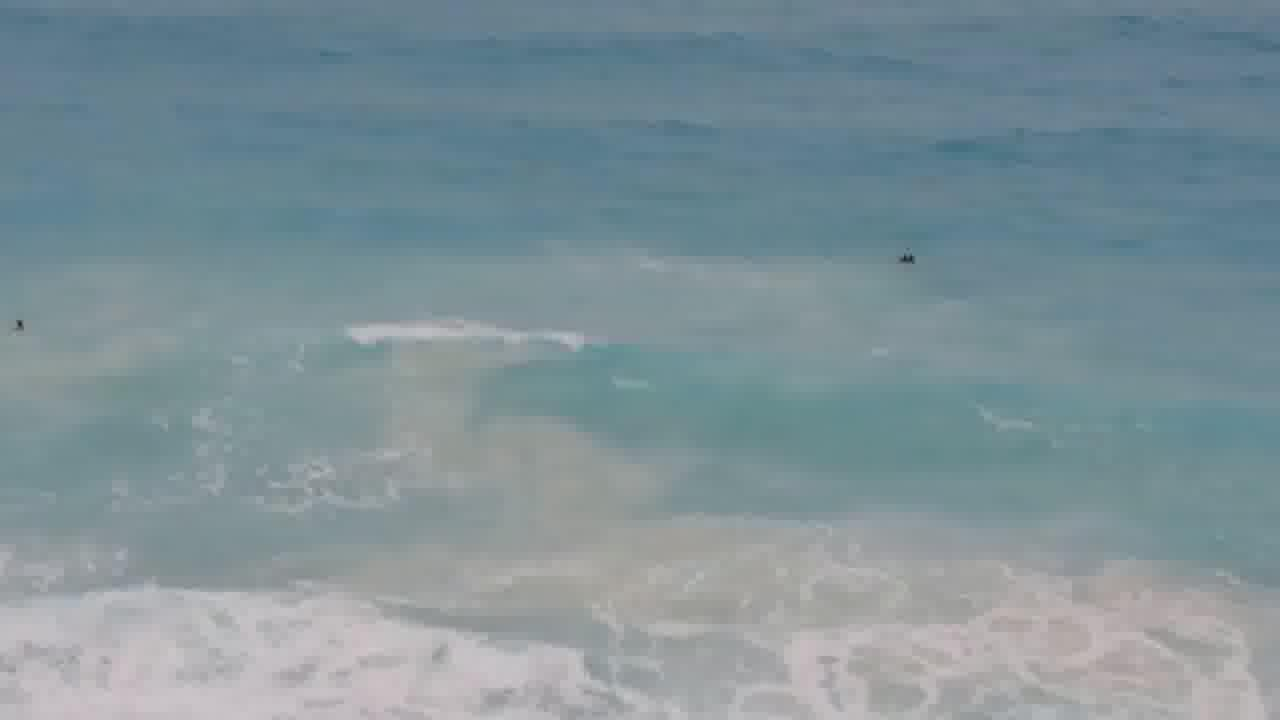human: (886, 241, 934, 274), (11, 292, 37, 342)
